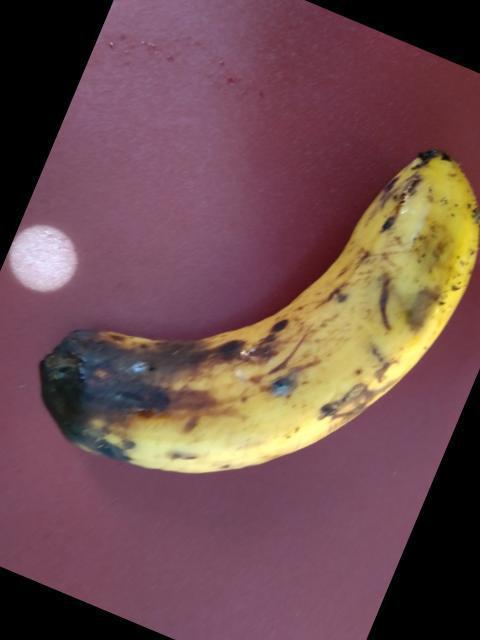rotten: (31, 136, 479, 516)
